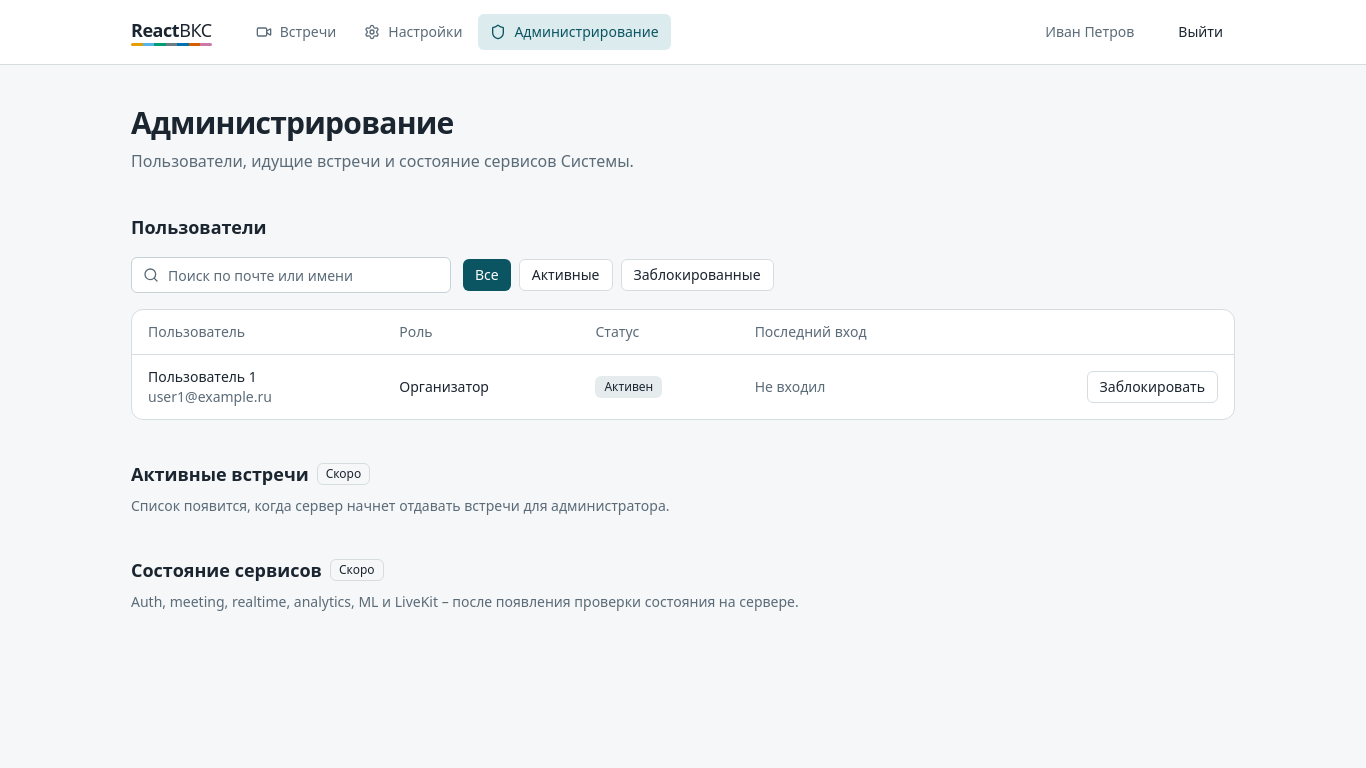
it: админка: пользователи (режим http) › PATCH 409 conflict: понятное сообщение, диалог остается
Click the button with aria-label "Заблокировать: Пользователь 1": (1152, 387) x1=1087 y1=371 x2=1218 y2=403
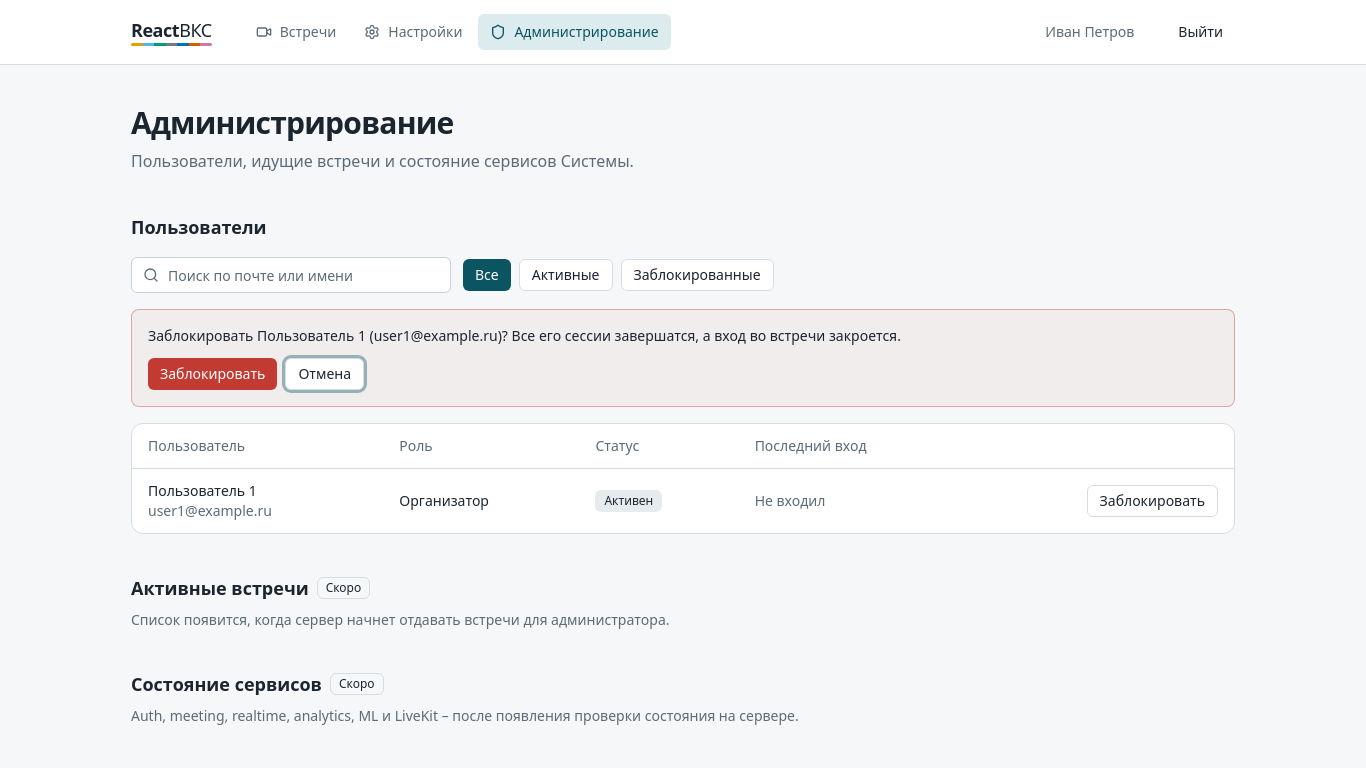
Click the 1st button "Заблокировать": (213, 374) x1=148 y1=358 x2=277 y2=390
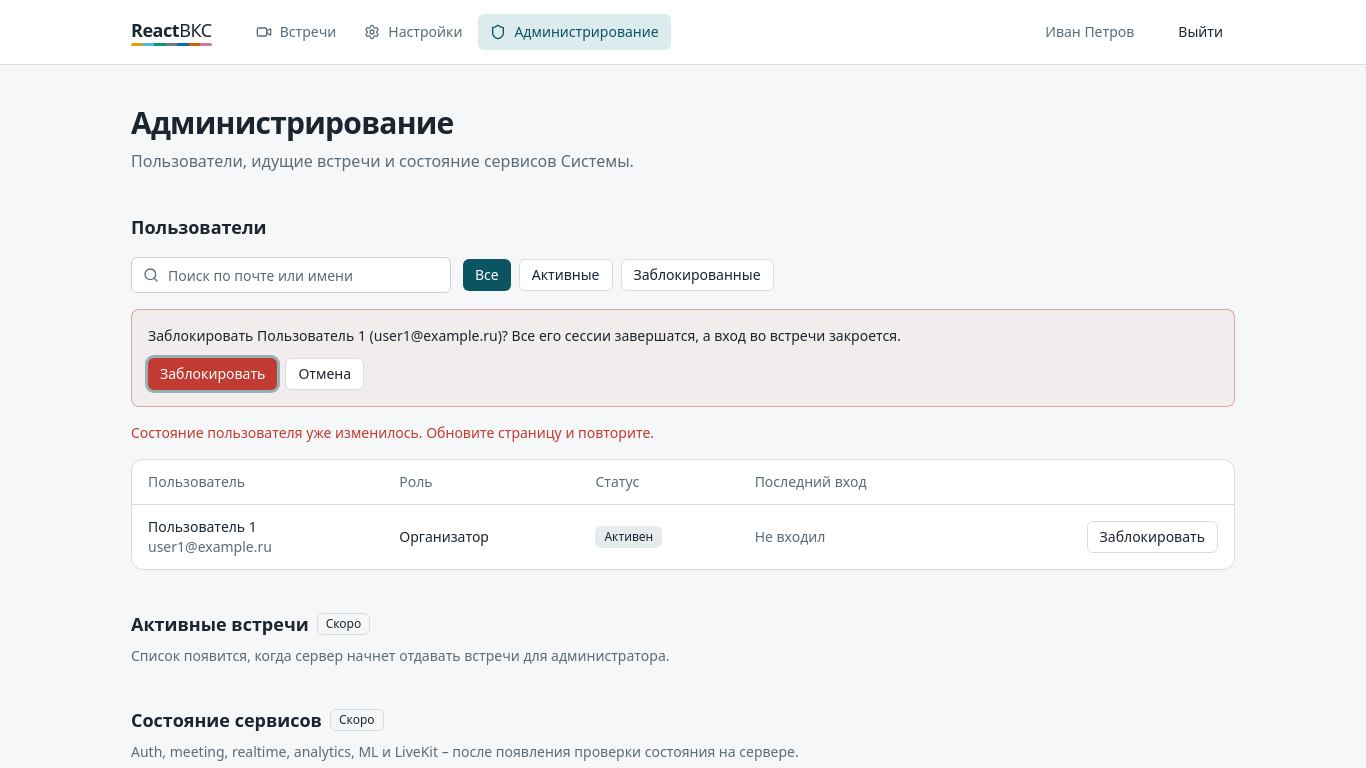
Now the dialog is shown, box x1=131 y1=309 x2=1235 y2=407
Now the message shows "уже изменилось", box x1=131 y1=423 x2=654 y2=442
